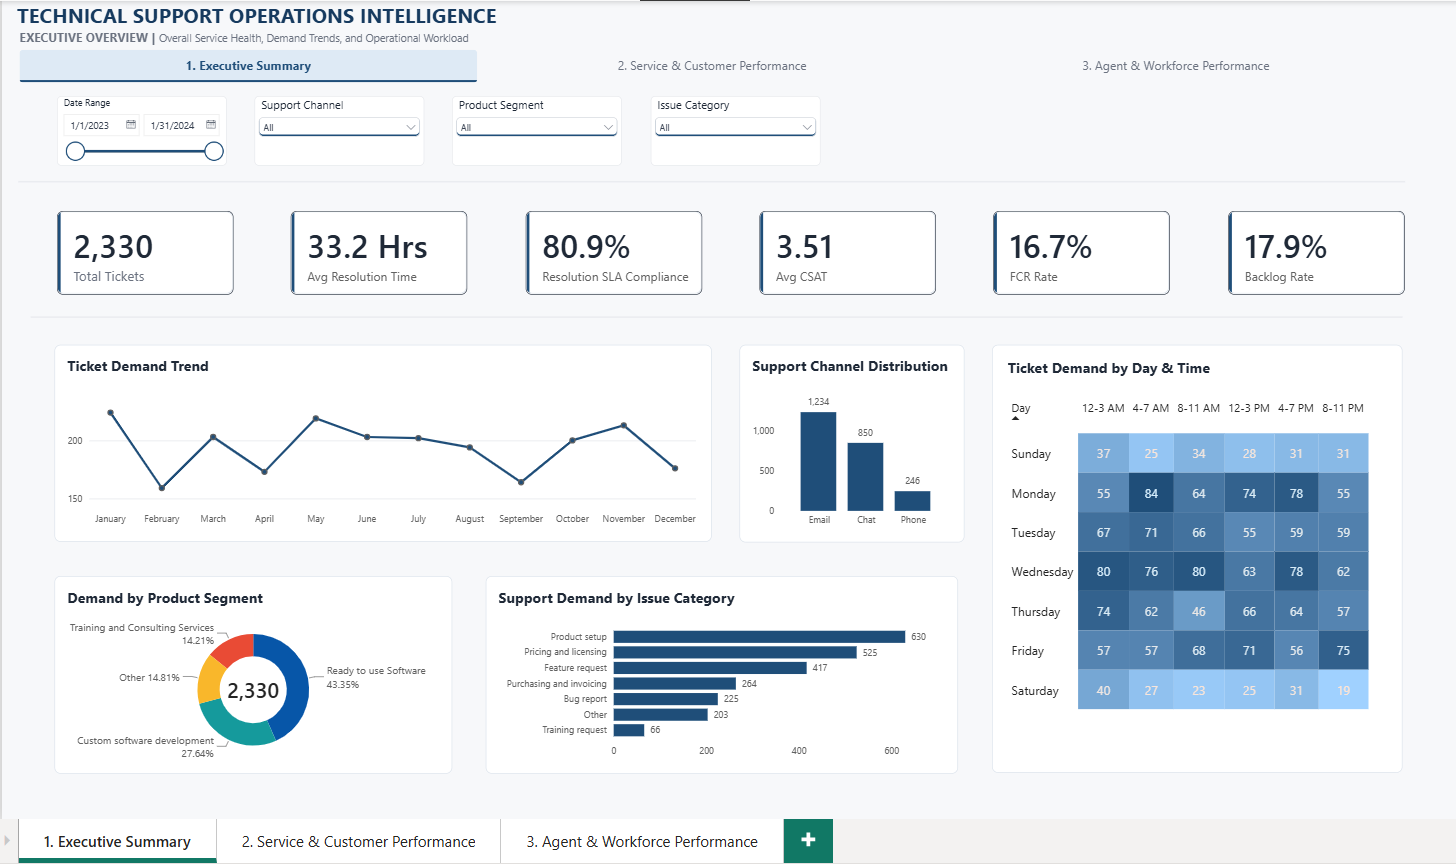

The page's visual inventory and layout, read from the dashboard file:
{"tool":"powerbi","page":{"name":"1. Executive Summary","canvas":[1920,1080],"ordinal":0},"visuals":[{"type":"textbox","box":[19.9,0,1672.5,36.3],"z":0,"group":"g4"},{"type":"slicer","title":"Date Range","fields":{"Values":["dim_date.full_date"]},"box":[72.5,126.1,224,92],"z":0,"group":"g1"},{"type":"textbox","box":[23.3,36.7,1731.7,32.5],"z":1000,"group":"g4"},{"type":"slicer","title":"Date Range","fields":{"Values":["dim_channel.support_channel"]},"box":[333.5,126.1,224,92],"z":1000,"group":"g1"},{"type":"slicer","title":"Date Range","fields":{"Values":["dim_product.product_segment"]},"box":[594.5,126.1,224,92],"z":2000,"group":"g1"},{"type":"shape","box":[38.6,411.4,1810,12.9],"z":2000,"group":"g4"},{"type":"pageNavigator","box":[23.6,65,1828.3,43.3],"z":3000,"group":"g3"},{"type":"slicer","title":"Date Range","fields":{"Values":["dim_category.issue_category"]},"box":[855.5,126.1,224,92],"z":3000,"group":"g1"},{"type":"lineChart","title":"Ticket Demand Trend","fields":{"Y":["base_measures.Total Tickets"],"Category":["dim_date.month_name"]},"box":[70,454.3,867.1,260],"z":3000},{"type":"shape","box":[21.7,230,1830,18.3],"z":4000,"group":"g3"},{"type":"clusteredBarChart","title":"Support Demand by Issue Category","fields":{"Y":["base_measures.Total Tickets"],"Category":["dim_category.issue_category"]},"box":[638.3,758.7,623.5,261],"z":4000},{"type":"group","id":"g1","title":"Group 1","box":[72.5,126.1,1007.8,92.4],"z":5000,"group":"g3"},{"type":"donutChart","title":" Demand by Product Segment","fields":{"Y":["base_measures.Total Tickets"],"Category":["dim_product.product_segment"]},"box":[69.6,758.7,525,261],"z":5000},{"type":"group","id":"g2","title":"Group 2","box":[72.5,277.8,1778,110.5],"z":6000,"group":"g3"},{"type":"cardVisual","fields":{"Data":["base_measures.Total Tickets"]},"box":[72.5,277.8,233,110],"z":6000,"group":"g2"},{"type":"clusteredColumnChart","title":"Support Channel Distribution","fields":{"Category":["dim_channel.support_channel"],"Y":["base_measures.Total Tickets"]},"box":[973.2,453.3,296.4,261],"z":6000},{"type":"cardVisual","fields":{"Data":["base_measures.Avg Resolution Time"]},"box":[381.5,277.8,233,110],"z":7000,"group":"g2"},{"type":"pivotTable","title":"Ticket Demand by Day & Time","fields":{"Values":["base_measures.Total Tickets"],"Rows":["dim_date.day_name"],"Columns":["fact_support_tickets.hour_bucket"]},"box":[1305.7,454.3,541.4,565],"z":7000},{"type":"group","id":"g3","title":"Group 3","box":[21.7,65,1830.3,323.3],"z":8000,"group":"g4"},{"type":"cardVisual","fields":{"Data":["base_measures.Resolution SLA Compliance %"]},"box":[690.5,277.8,233,110],"z":8000,"group":"g2"},{"type":"group","id":"g4","title":"Group 4","box":[19.9,0,1832,424.3],"z":8001},{"type":"cardVisual","fields":{"Data":["base_measures.Avg CSAT"]},"box":[999.5,277.8,233,110],"z":9000,"group":"g2"},{"type":"cardVisual","fields":{"Data":["base_measures.FCR Rate"]},"box":[1308.5,277.8,233,110],"z":10000,"group":"g2"},{"type":"cardVisual","fields":{"Data":["base_measures.Backlog Rate"]},"box":[1617.5,277.8,233,110],"z":11000,"group":"g2"}]}

Visuals, with their boxes on the page's 1920x1080 design canvas (x1, y1, x2, y2). These are canvas units, not pixel positions in the 1456x864 screenshot, which may show the page scaled, cropped or inside an application window:
textbox: [20, 0, 1692, 36]
"Date Range" slicer: [72, 126, 296, 218]
textbox: [23, 37, 1755, 69]
"Date Range" slicer: [334, 126, 558, 218]
"Date Range" slicer: [594, 126, 818, 218]
shape: [39, 411, 1849, 424]
pageNavigator: [24, 65, 1852, 108]
"Date Range" slicer: [856, 126, 1080, 218]
"Ticket Demand Trend" lineChart: [70, 454, 937, 714]
shape: [22, 230, 1852, 248]
"Support Demand by Issue Category" clusteredBarChart: [638, 759, 1262, 1020]
"Group 1" group: [72, 126, 1080, 218]
" Demand by Product Segment" donutChart: [70, 759, 595, 1020]
"Group 2" group: [72, 278, 1850, 388]
cardVisual - base_measures.Total Tickets: [72, 278, 306, 388]
"Support Channel Distribution" clusteredColumnChart: [973, 453, 1270, 714]
cardVisual - base_measures.Avg Resolution Time: [382, 278, 614, 388]
"Ticket Demand by Day & Time" pivotTable: [1306, 454, 1847, 1019]
"Group 3" group: [22, 65, 1852, 388]
cardVisual - base_measures.Resolution SLA Compliance %: [690, 278, 924, 388]
"Group 4" group: [20, 0, 1852, 424]
cardVisual - base_measures.Avg CSAT: [1000, 278, 1232, 388]
cardVisual - base_measures.FCR Rate: [1308, 278, 1542, 388]
cardVisual - base_measures.Backlog Rate: [1618, 278, 1850, 388]
